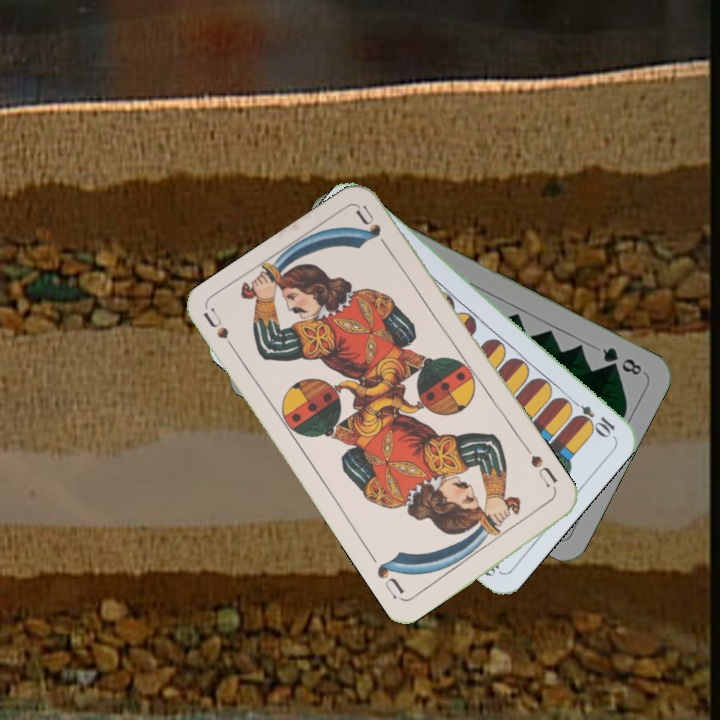E10: (565, 394, 618, 439)
G8: (598, 343, 646, 378)
SU: (200, 306, 242, 360), (522, 444, 561, 490)
